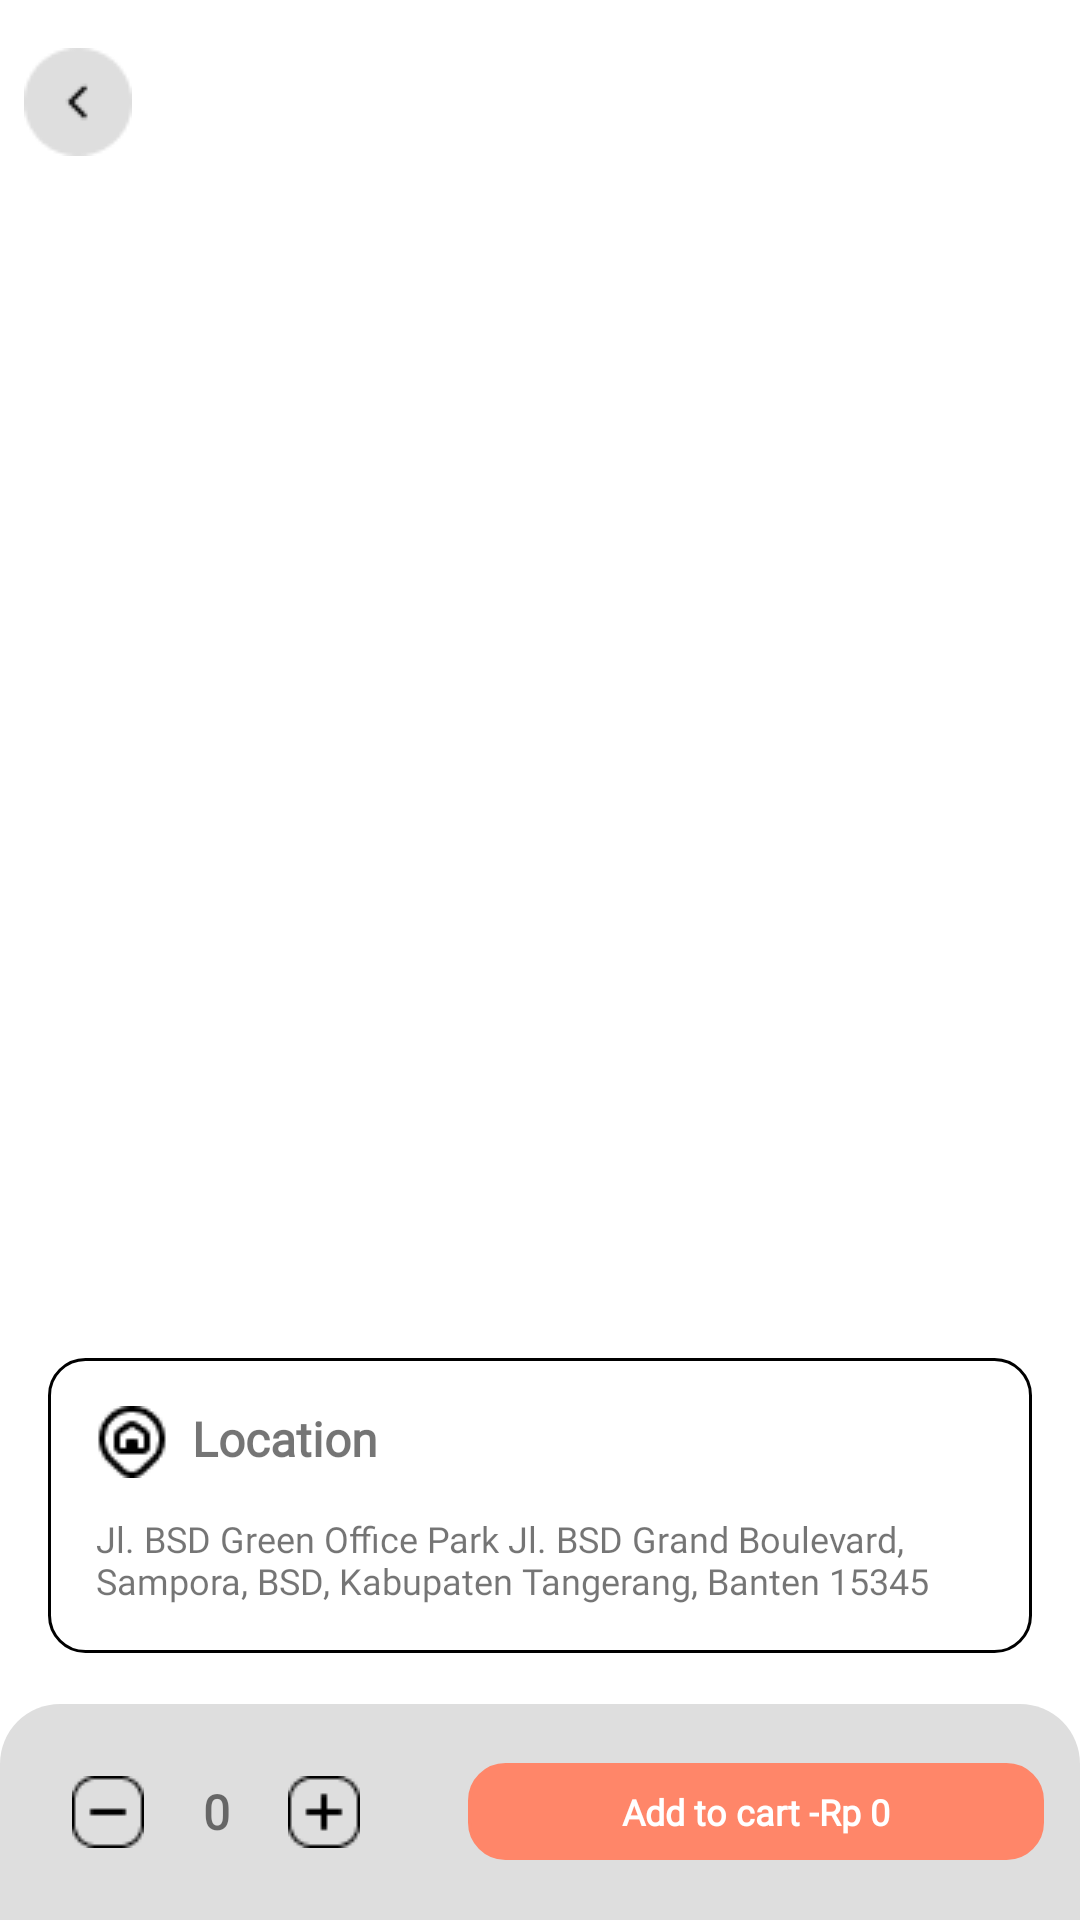

Screen size 1080*1920. Icon name, then its box in pixels as (x1, y1, x2, y2):
button back: (24, 48, 132, 156)
button minus: (72, 1776, 144, 1848)
button plus: (288, 1776, 360, 1848)
